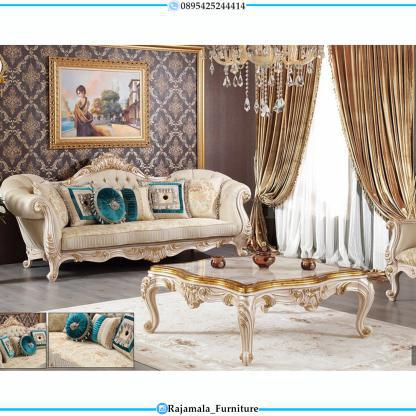bantal: (147, 181, 187, 217), (186, 179, 219, 216), (63, 184, 92, 222)
lukisan: (43, 55, 152, 151)
sova: (3, 168, 255, 264)
tanaman: (149, 252, 386, 350)
